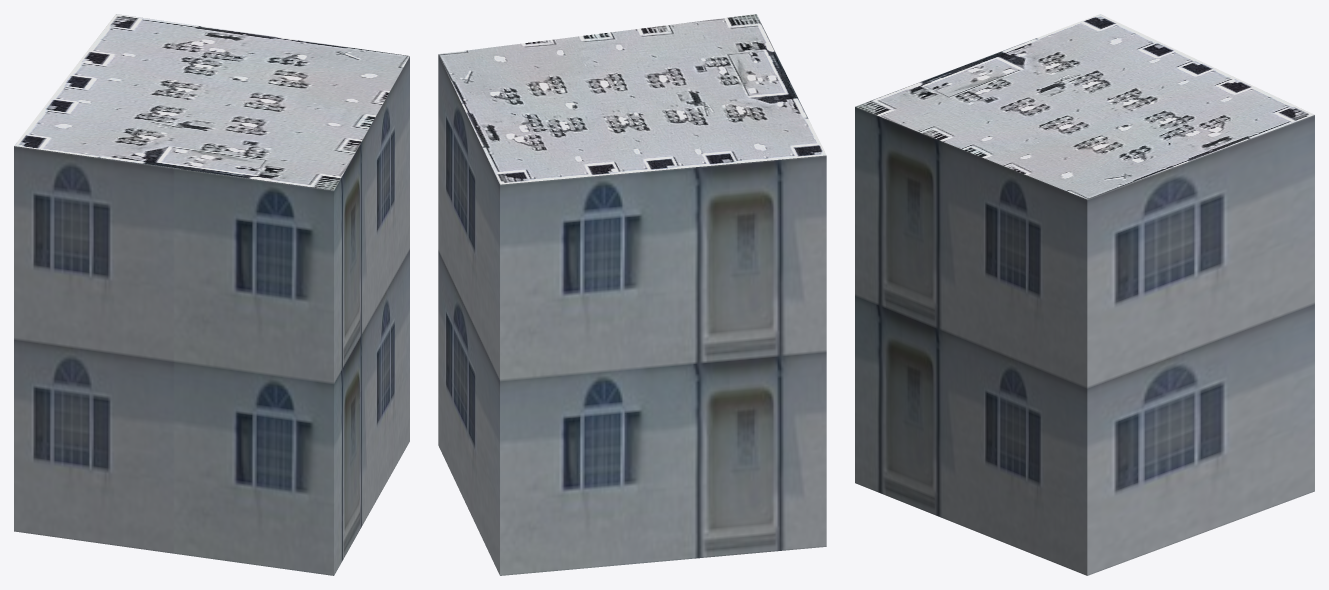
File: ResTex__1401.fbx
3 views of the same model, side by side, from view 1: azimuth 30°, elevation 25°; view 2: azimuth 150°, elevation 25°; view 3: azimuth 270°, elevation 25° (orthographic). The views are drawn at different scales.
Parts seen in each view (by area): view 1: CityEngineMaterial_17_m, CityEngineMaterial_4_m; view 2: CityEngineMaterial_17_m, CityEngineMaterial_4_m; view 3: CityEngineMaterial_17_m, CityEngineMaterial_4_m.
Part boxes in pixels (bbox=[...]): CityEngineMaterial_17_m: bbox=[14, 56, 409, 575]; CityEngineMaterial_4_m: bbox=[14, 14, 409, 190]; CityEngineMaterial_17_m: bbox=[438, 54, 826, 575]; CityEngineMaterial_4_m: bbox=[438, 14, 826, 184]; CityEngineMaterial_17_m: bbox=[855, 107, 1314, 575]; CityEngineMaterial_4_m: bbox=[855, 14, 1314, 199].
Size of the model in its own units: 6.34 by 6 by 6.64.
2 materials, 2 textured.
